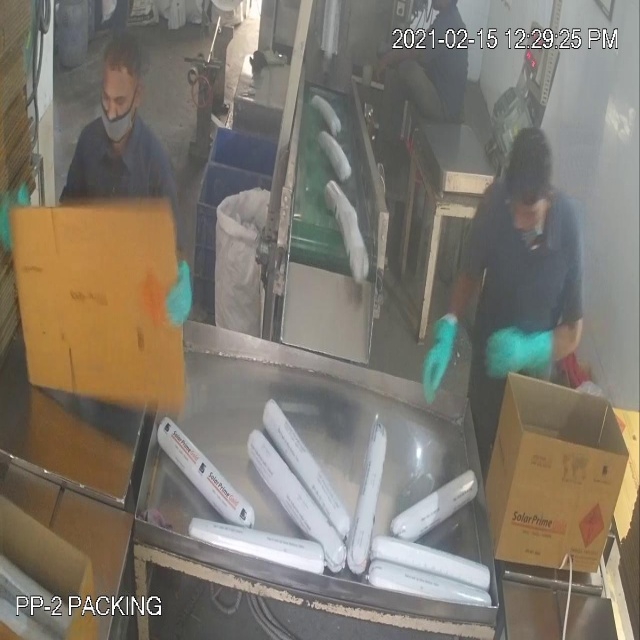Guantes: (479, 311, 575, 396), (418, 297, 464, 428), (161, 254, 197, 342)
Sin_guantes: (376, 40, 440, 85)
